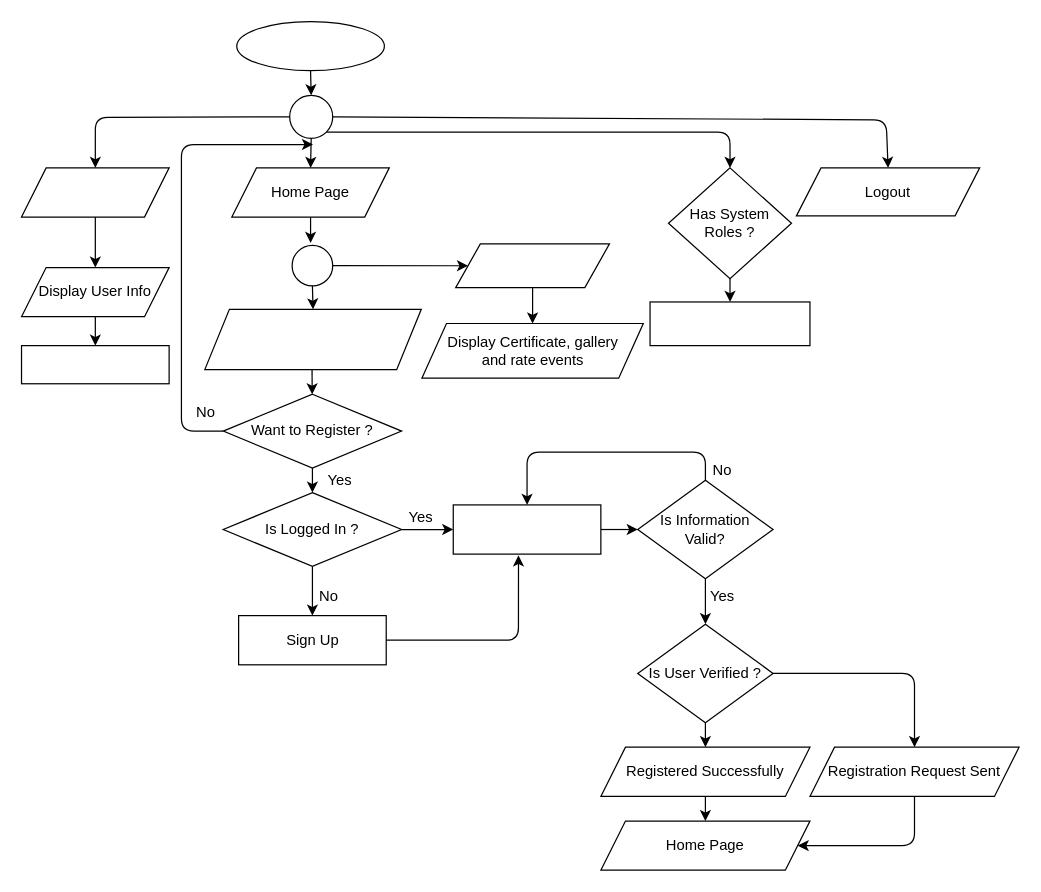
Image size: 1041x892. Some labels were removed from this diagram. Each missing label, with the centre of its shape:
"Display Attended Events" belongs at (x=531, y=265).
"Display User Group Wise Event" belongs at (x=312, y=339).
"Edit User Info" belongs at (x=94, y=364).
"Fill necessary details" belongs at (x=526, y=529).
"Goto Admin Panel" belongs at (x=729, y=323).
"Start" belongs at (x=310, y=45).
"User Info Page" belongs at (x=94, y=192).
